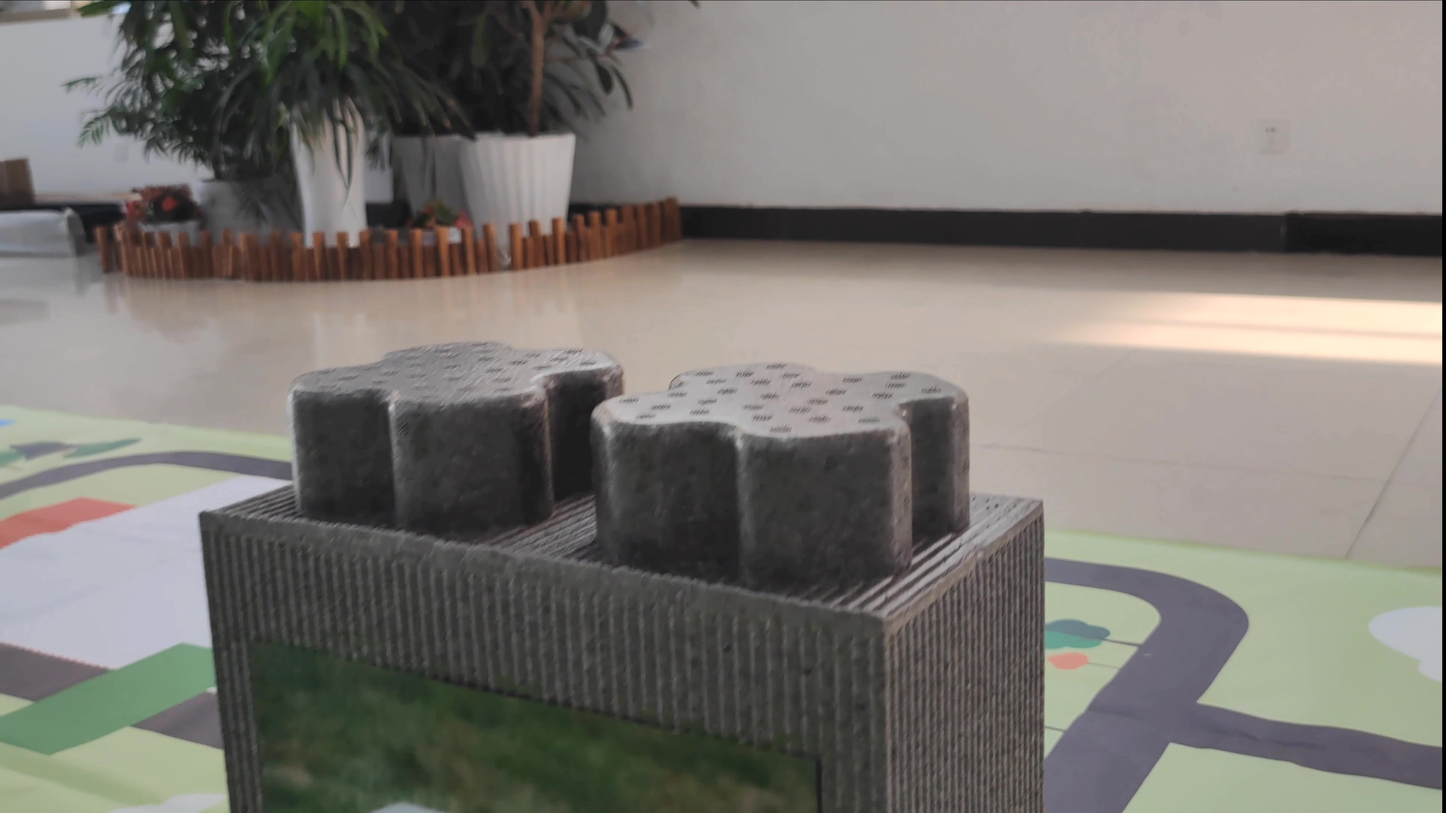panda: (270, 656, 701, 813)
